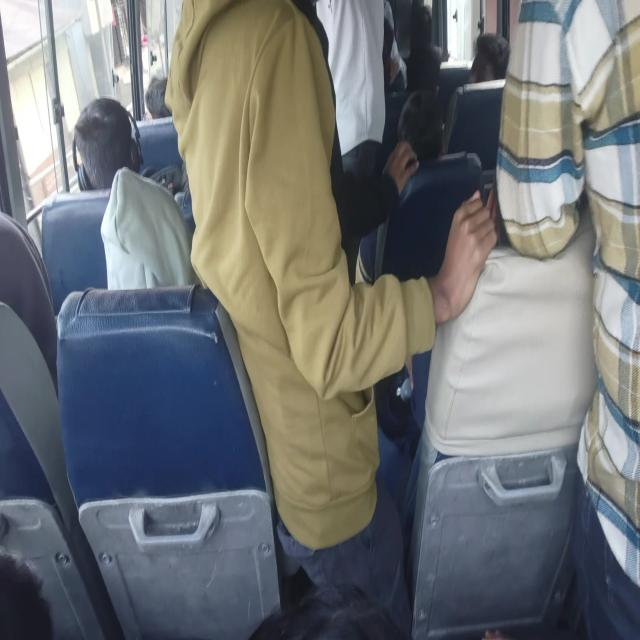person: (512, 4, 640, 640), (178, 9, 352, 342), (238, 0, 382, 124), (86, 188, 186, 316), (217, 575, 393, 640), (0, 232, 60, 382), (0, 552, 86, 639), (405, 86, 441, 185), (72, 104, 124, 172), (464, 34, 516, 98), (410, 39, 447, 91), (405, 2, 432, 30)
